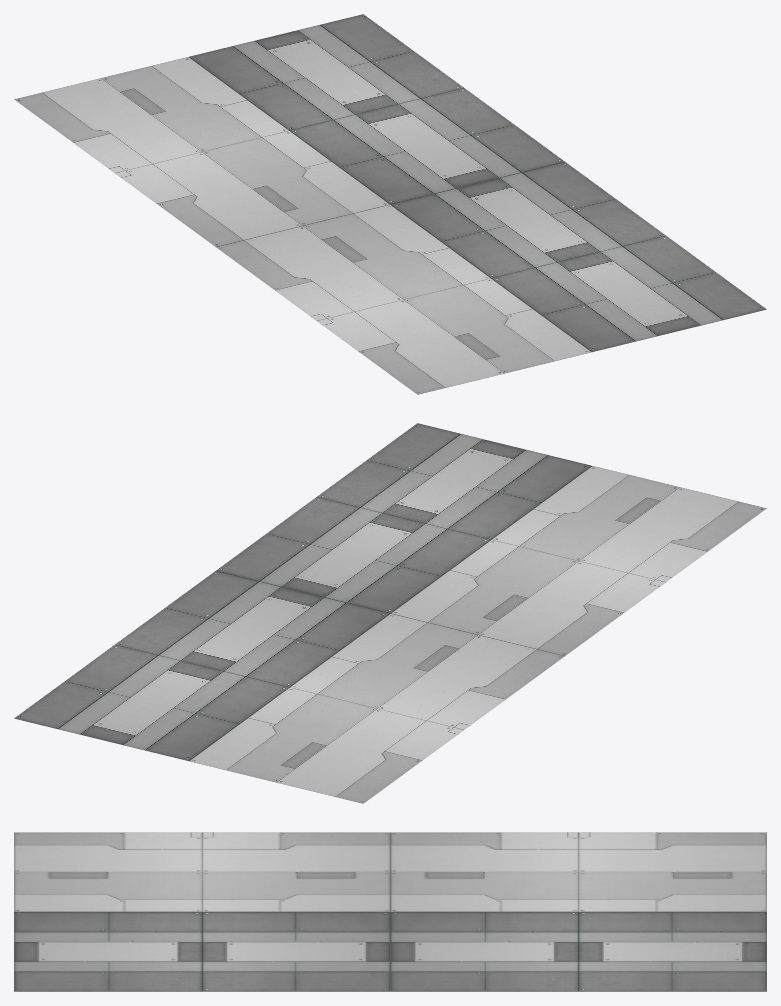
The model's file is Floor_Long_02.FBX.
The picture shows the model from 3 angles, top to bottom: view 1: azimuth 30°, elevation 25°; view 2: azimuth 150°, elevation 25°; view 3: azimuth 270°, elevation 25°; orthographic projection. The views are drawn at different scales.
Parts seen in each view (by area): view 1: Floor_Long_02; view 2: Floor_Long_02; view 3: Floor_Long_02.
Part boxes in pixels (left/top/right/bottom): Floor_Long_02: left=14, top=14, right=766, bottom=394; Floor_Long_02: left=14, top=423, right=766, bottom=803; Floor_Long_02: left=14, top=832, right=766, bottom=991.
Size of the model in its own units: 280 by 0.000175 by 560.
